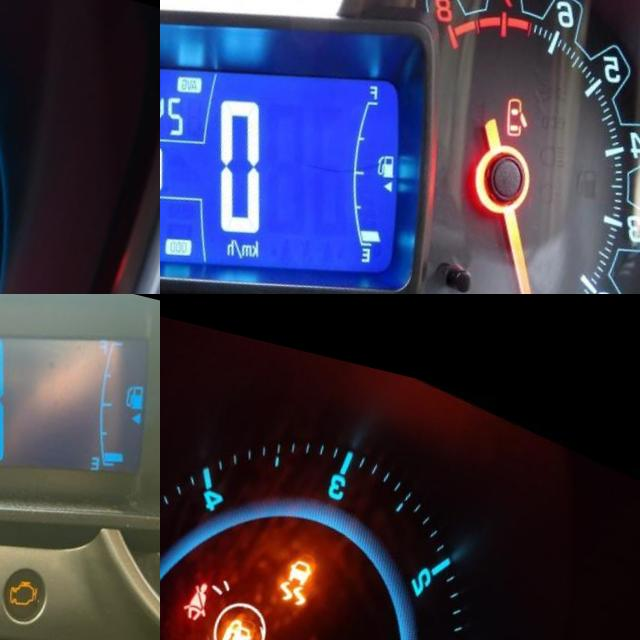Doors: (513, 70, 548, 117)
